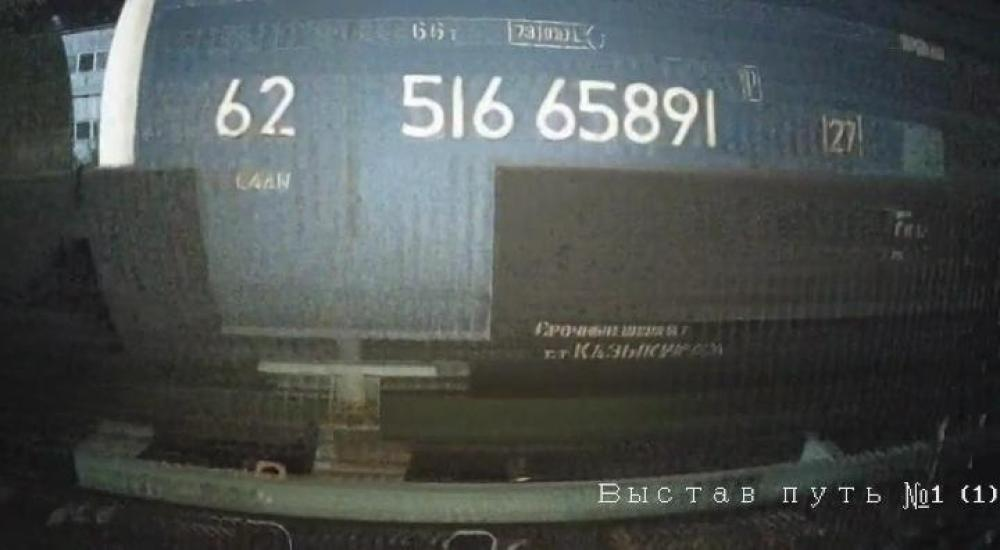Wagon-number: (397, 68, 726, 154)
